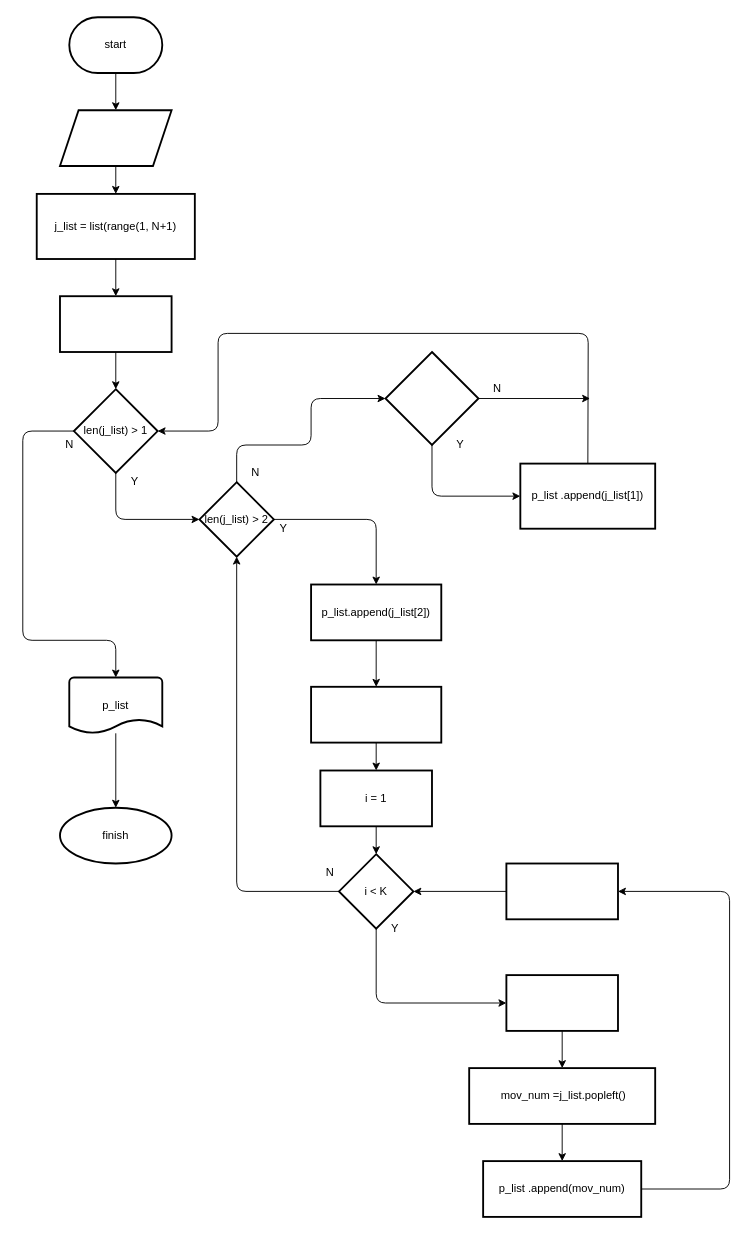
This 753x1233 diagram has some shape labels left out. The shapes that lost their labels are listed below. From the top down, each one's box as (x1, y1, x2, y2) in pixels, then its label:
(59, 109, 172, 166): N, K
(59, 295, 172, 352): p_list = []
(384, 351, 479, 445): len(j_list) == 2
(310, 685, 442, 743): j_list.append(j_list[2])
(505, 862, 618, 920): i += 1
(505, 974, 618, 1031): j_list.popleft()
